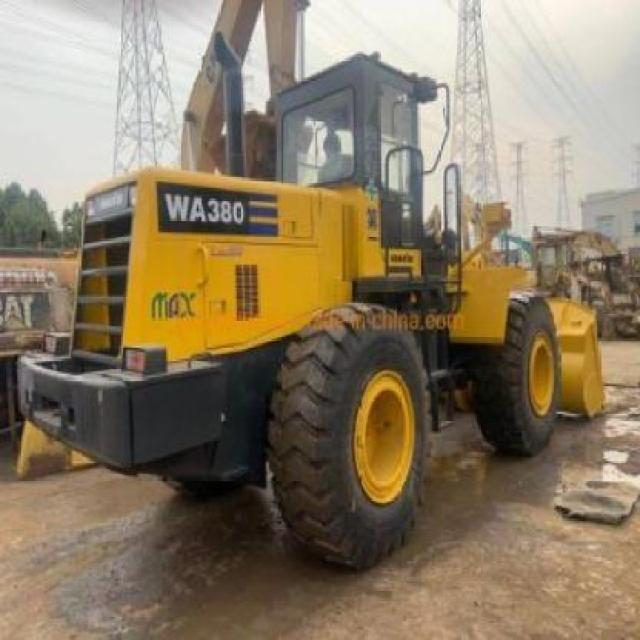buldozerpayloadergrader: (18, 48, 608, 566)
